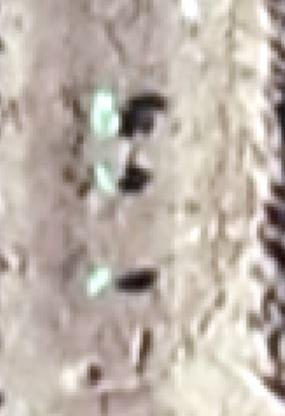cotton: (95, 96, 122, 131), (98, 167, 117, 191), (92, 269, 111, 291)
